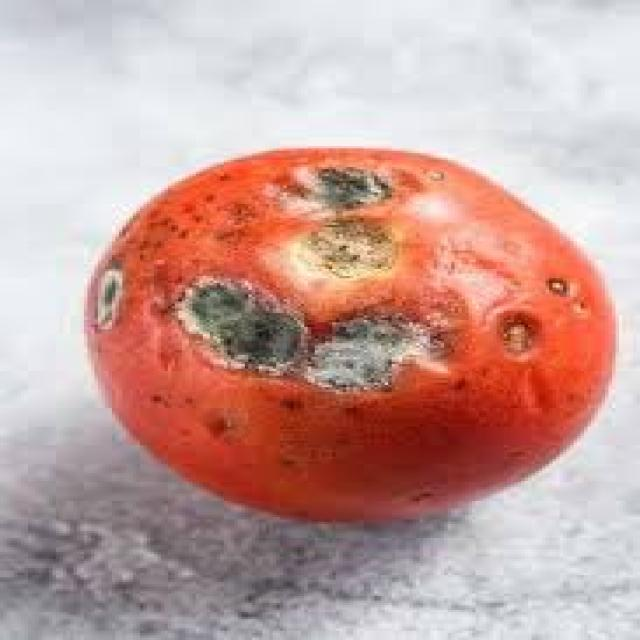Wet Waste: (77, 143, 611, 526)
